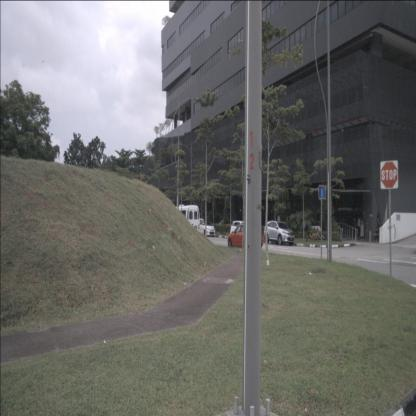human-pedestrian-adult: (360, 216, 365, 239), (356, 215, 360, 238)
vehicle-bicycle: (314, 226, 328, 243), (306, 226, 319, 243)
vehicle-car: (165, 204, 200, 237), (228, 224, 263, 250), (263, 221, 294, 245), (194, 218, 216, 238), (230, 221, 250, 237)
